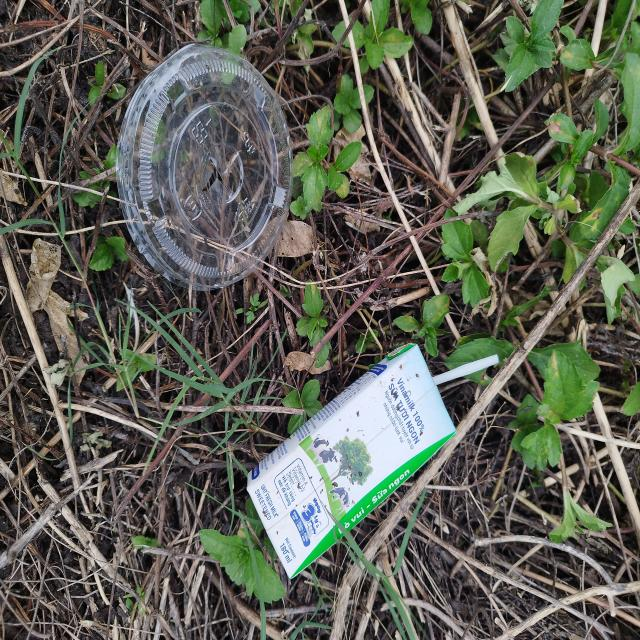lid: (116, 45, 292, 291)
milk box: (248, 340, 502, 579)
